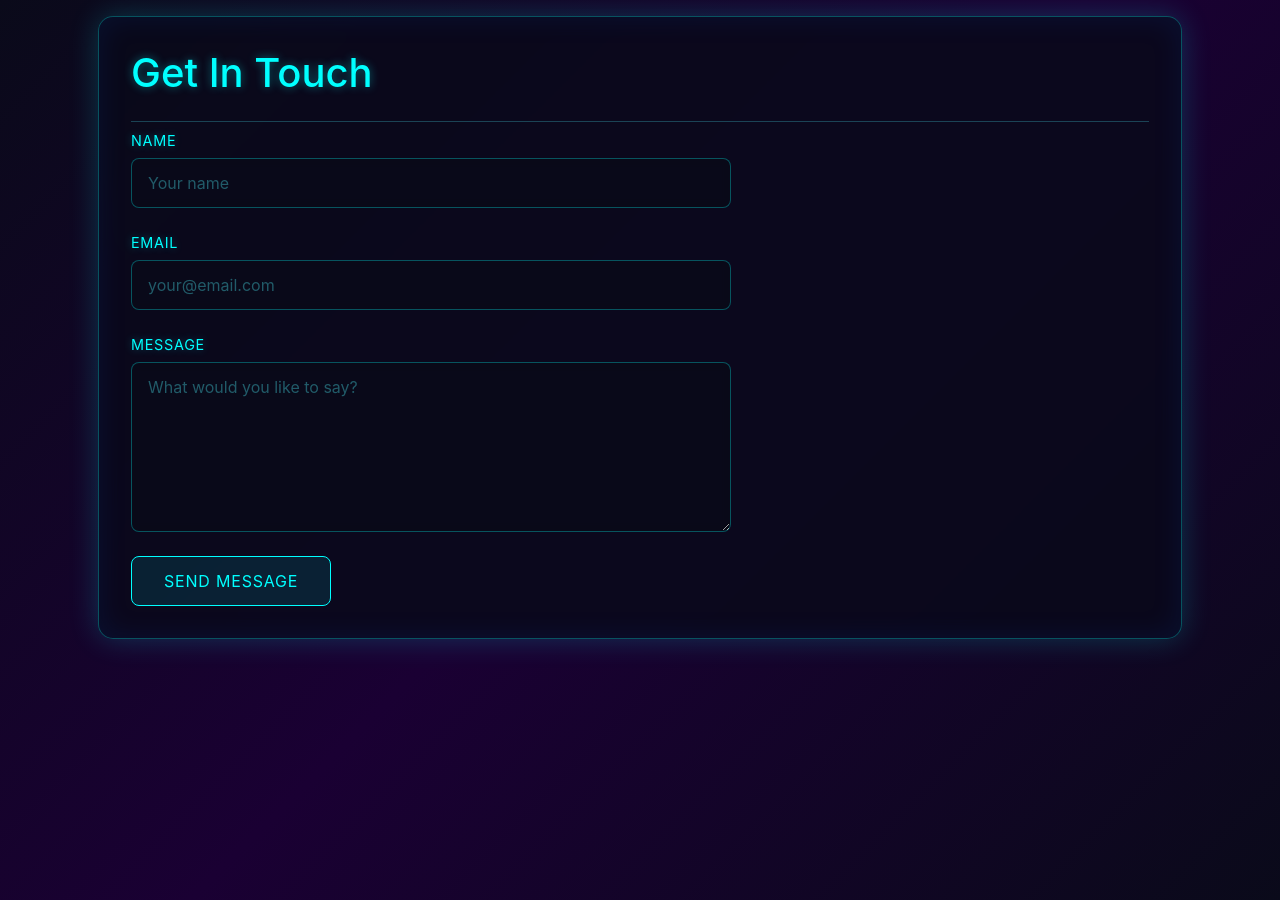
Test case: Contact form › clears a field error when the user types in that field
Click the button "Send Message" at (231, 581), box [131, 556, 331, 606]
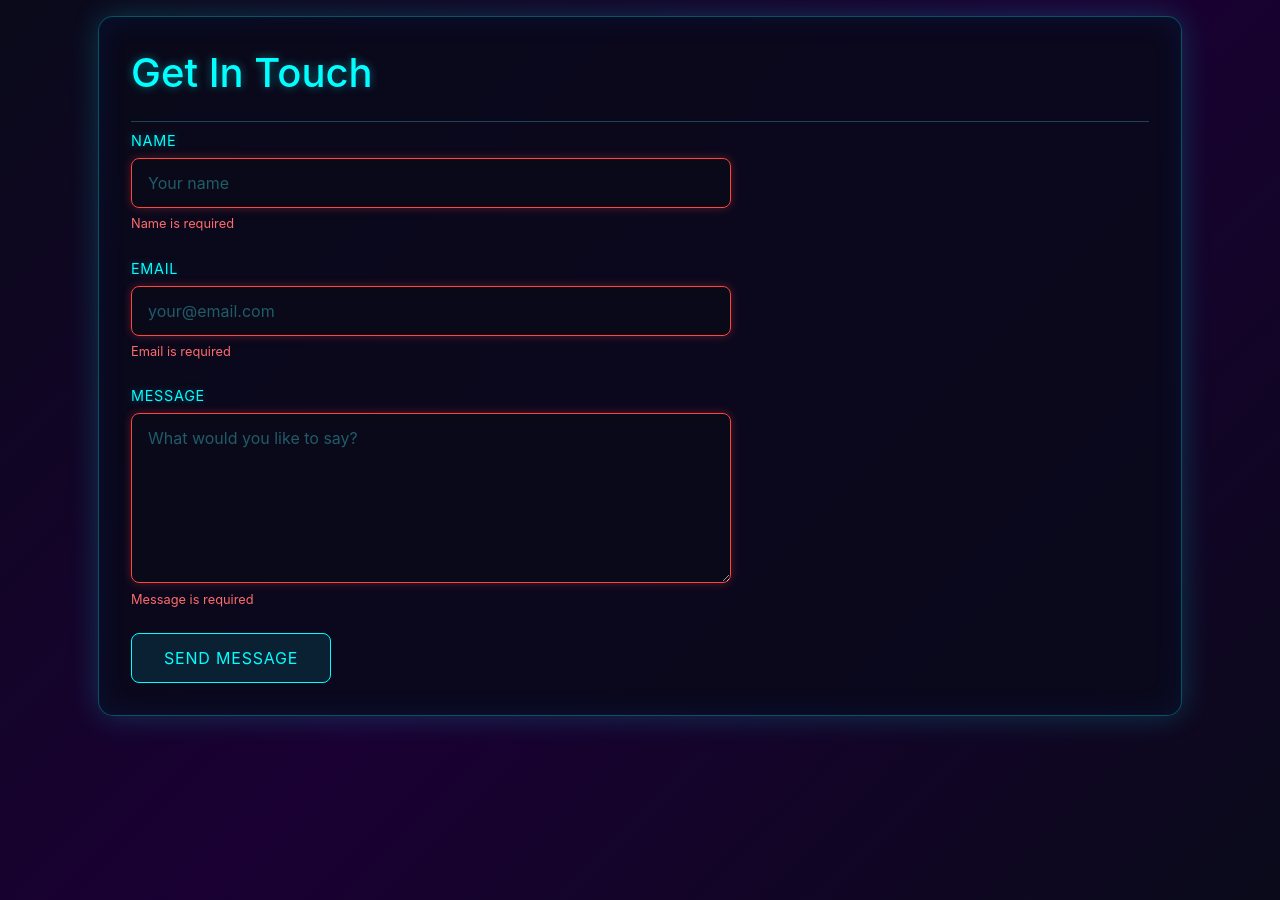
expect the text "Name is required" is shown: met, box [131, 216, 234, 231]
Type "Parker" into the field labelled "Name" at (431, 183), box [131, 158, 731, 208]
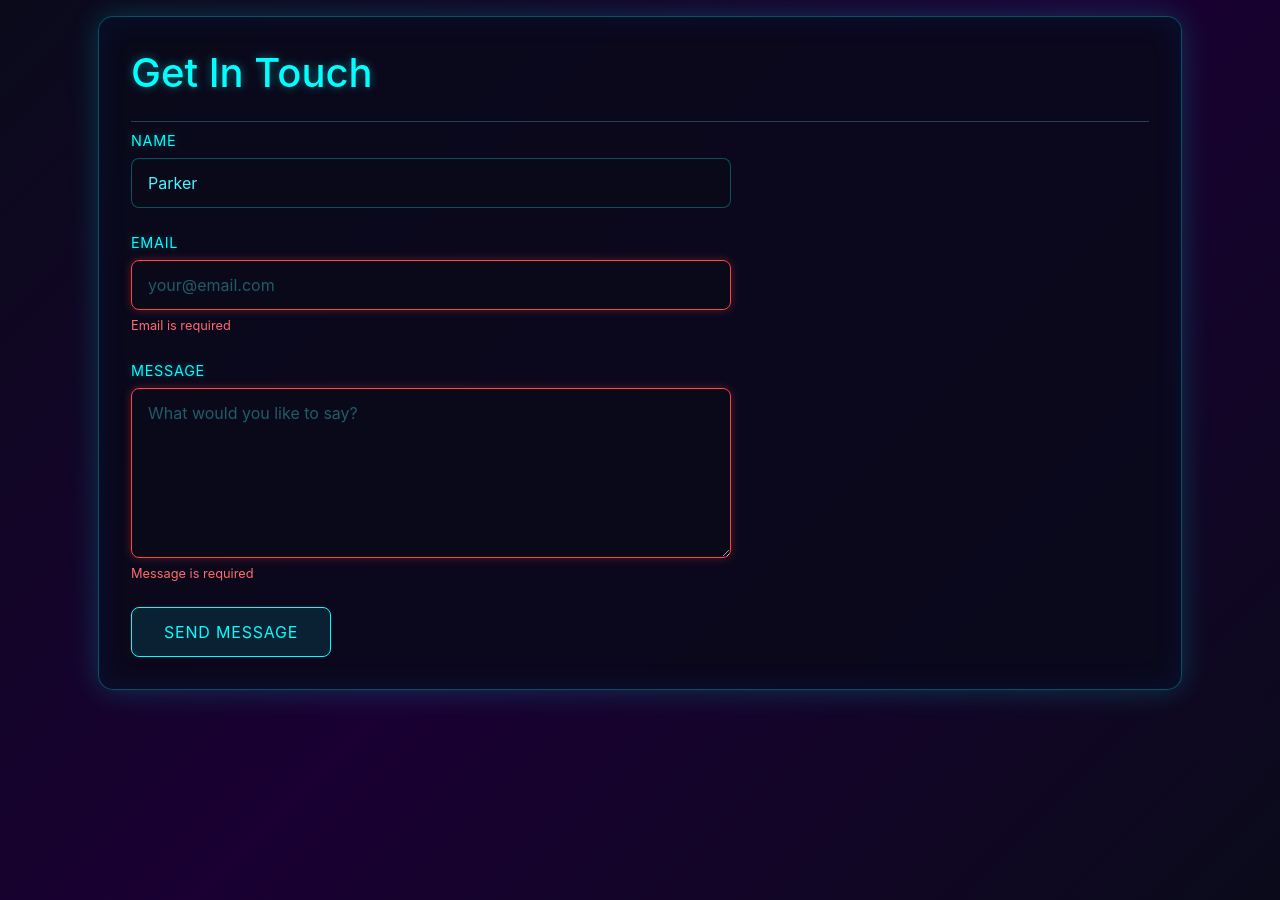
expect the text "Name is required" is gone: met
